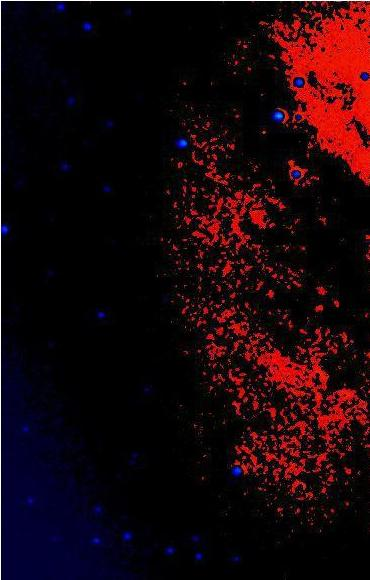star: (251, 114, 281, 144)
